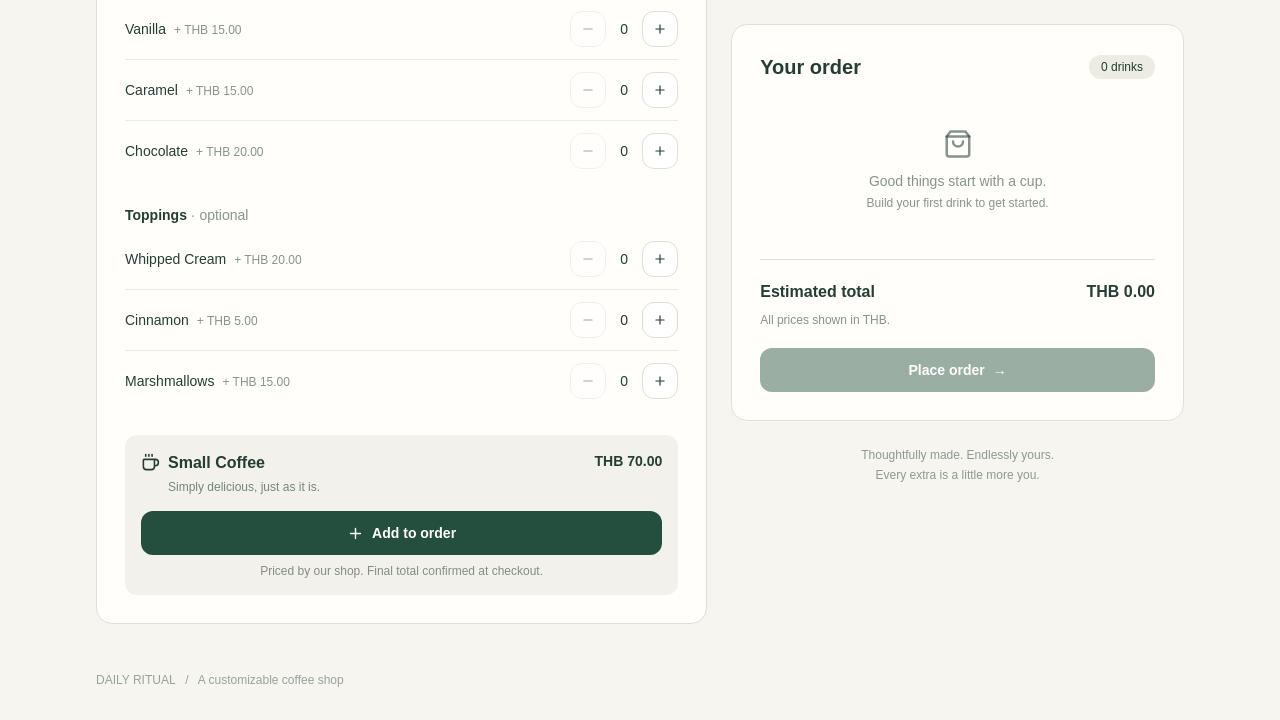
Coffee ordering › preserves cart and shows submission feedback: Cannot reach the coffee shop. Please try again.
(page scrolled)
Click the button "Add to order". click: [402, 533]
box: [141,511,662,555]
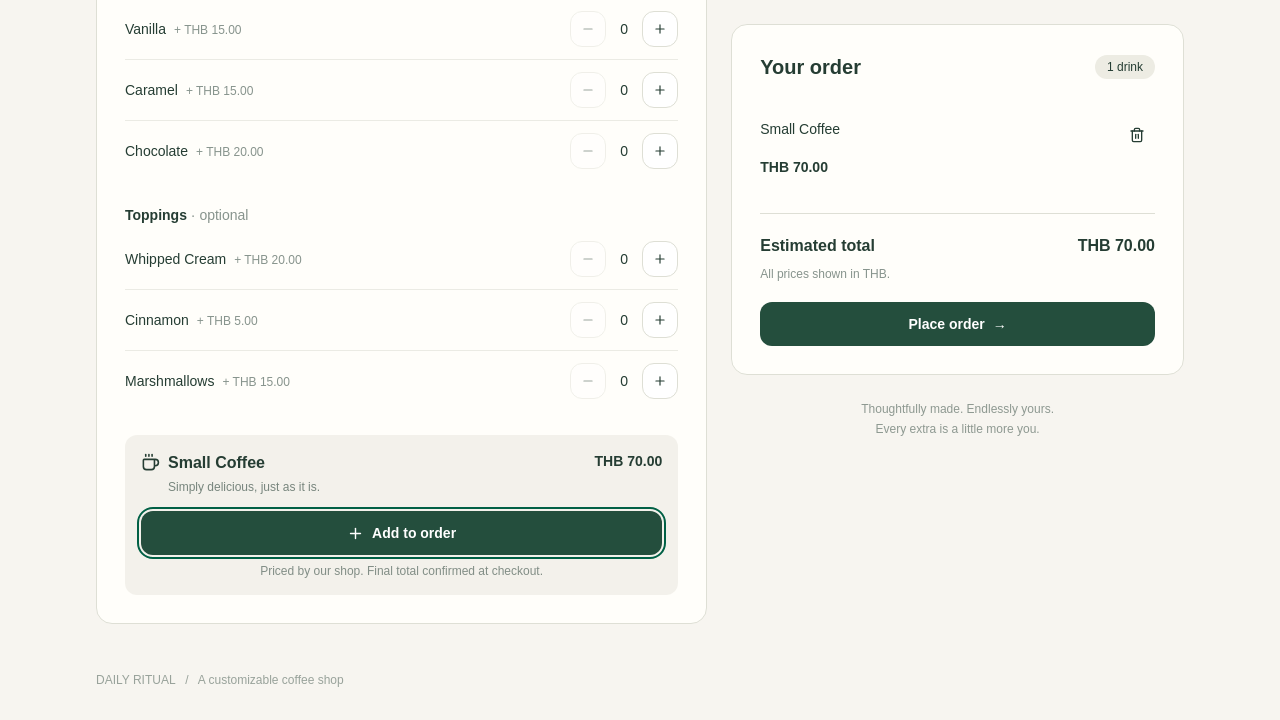
Click the button "Place order →". click: [958, 324]
box: [760,302,1155,346]
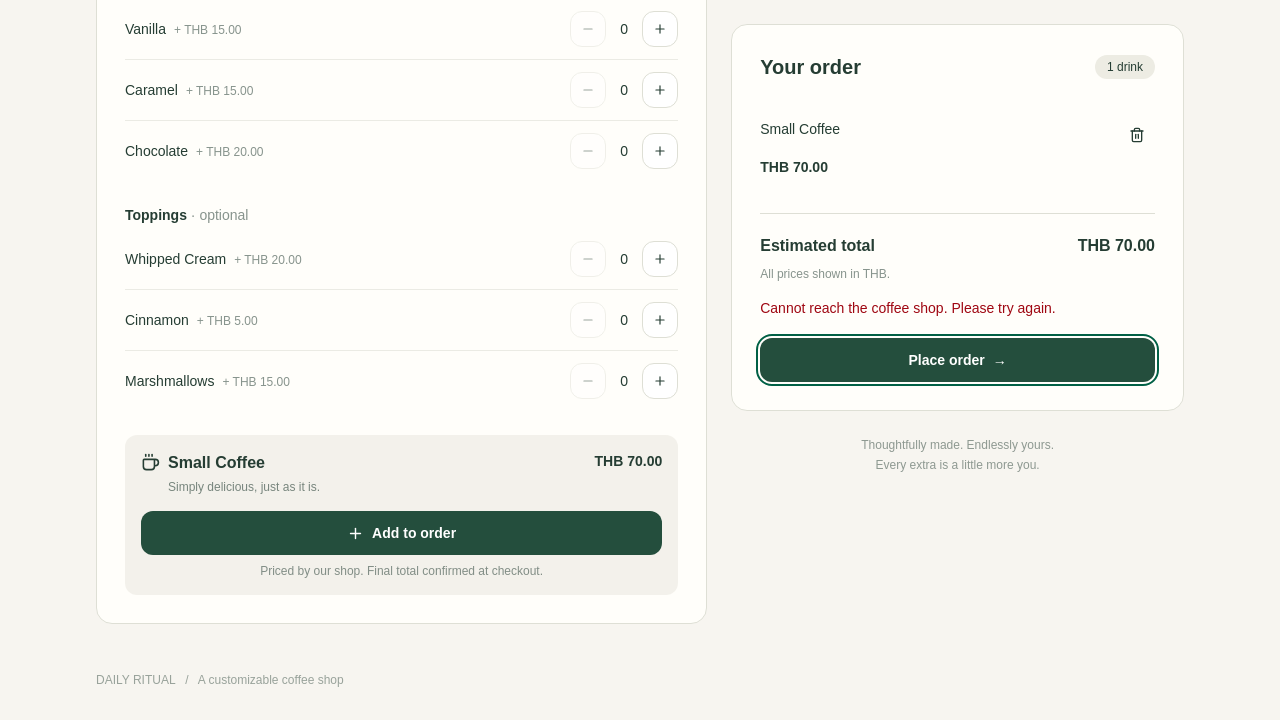
Expected: the text "1 drink" is shown, [1095,55,1155,79]
Expected: the message reads "Cannot reach the coffee shop. Please try again.", [760,300,1056,316]
Click the button "Place order →". click: [958, 360]
box: [760,338,1155,382]
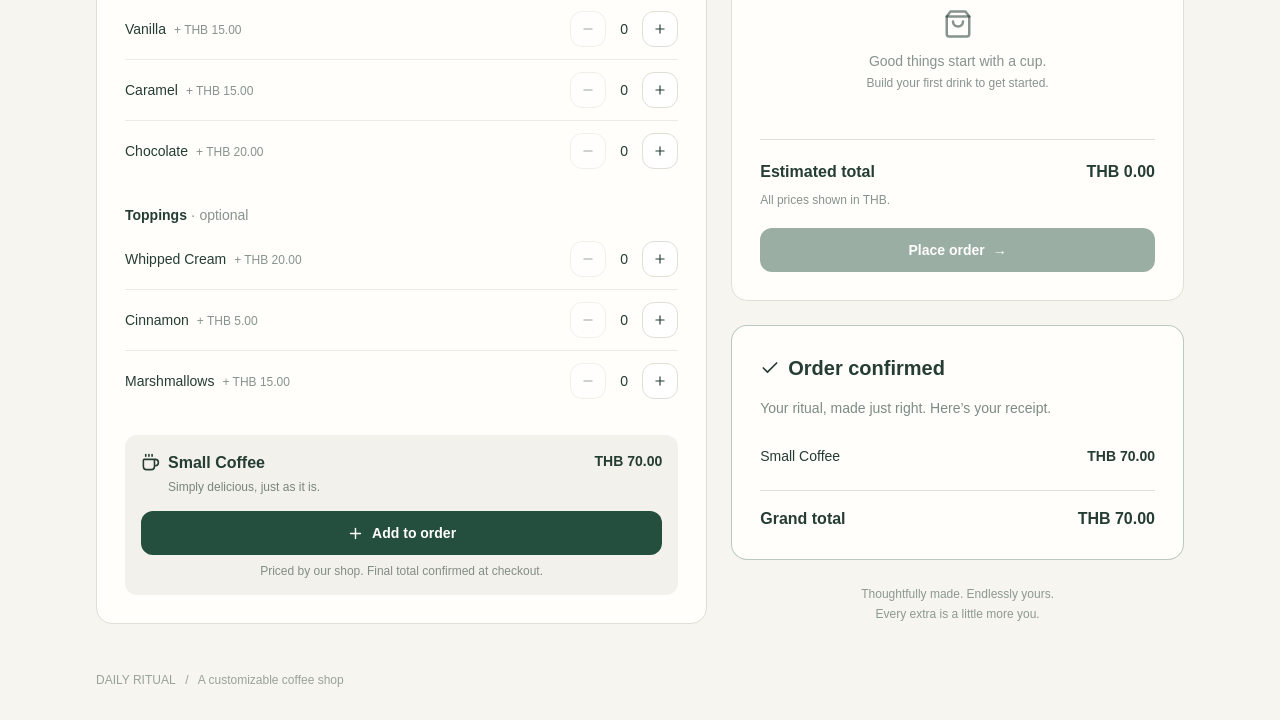
Expected: the heading "Order confirmed" is shown, [788,354,945,382]
